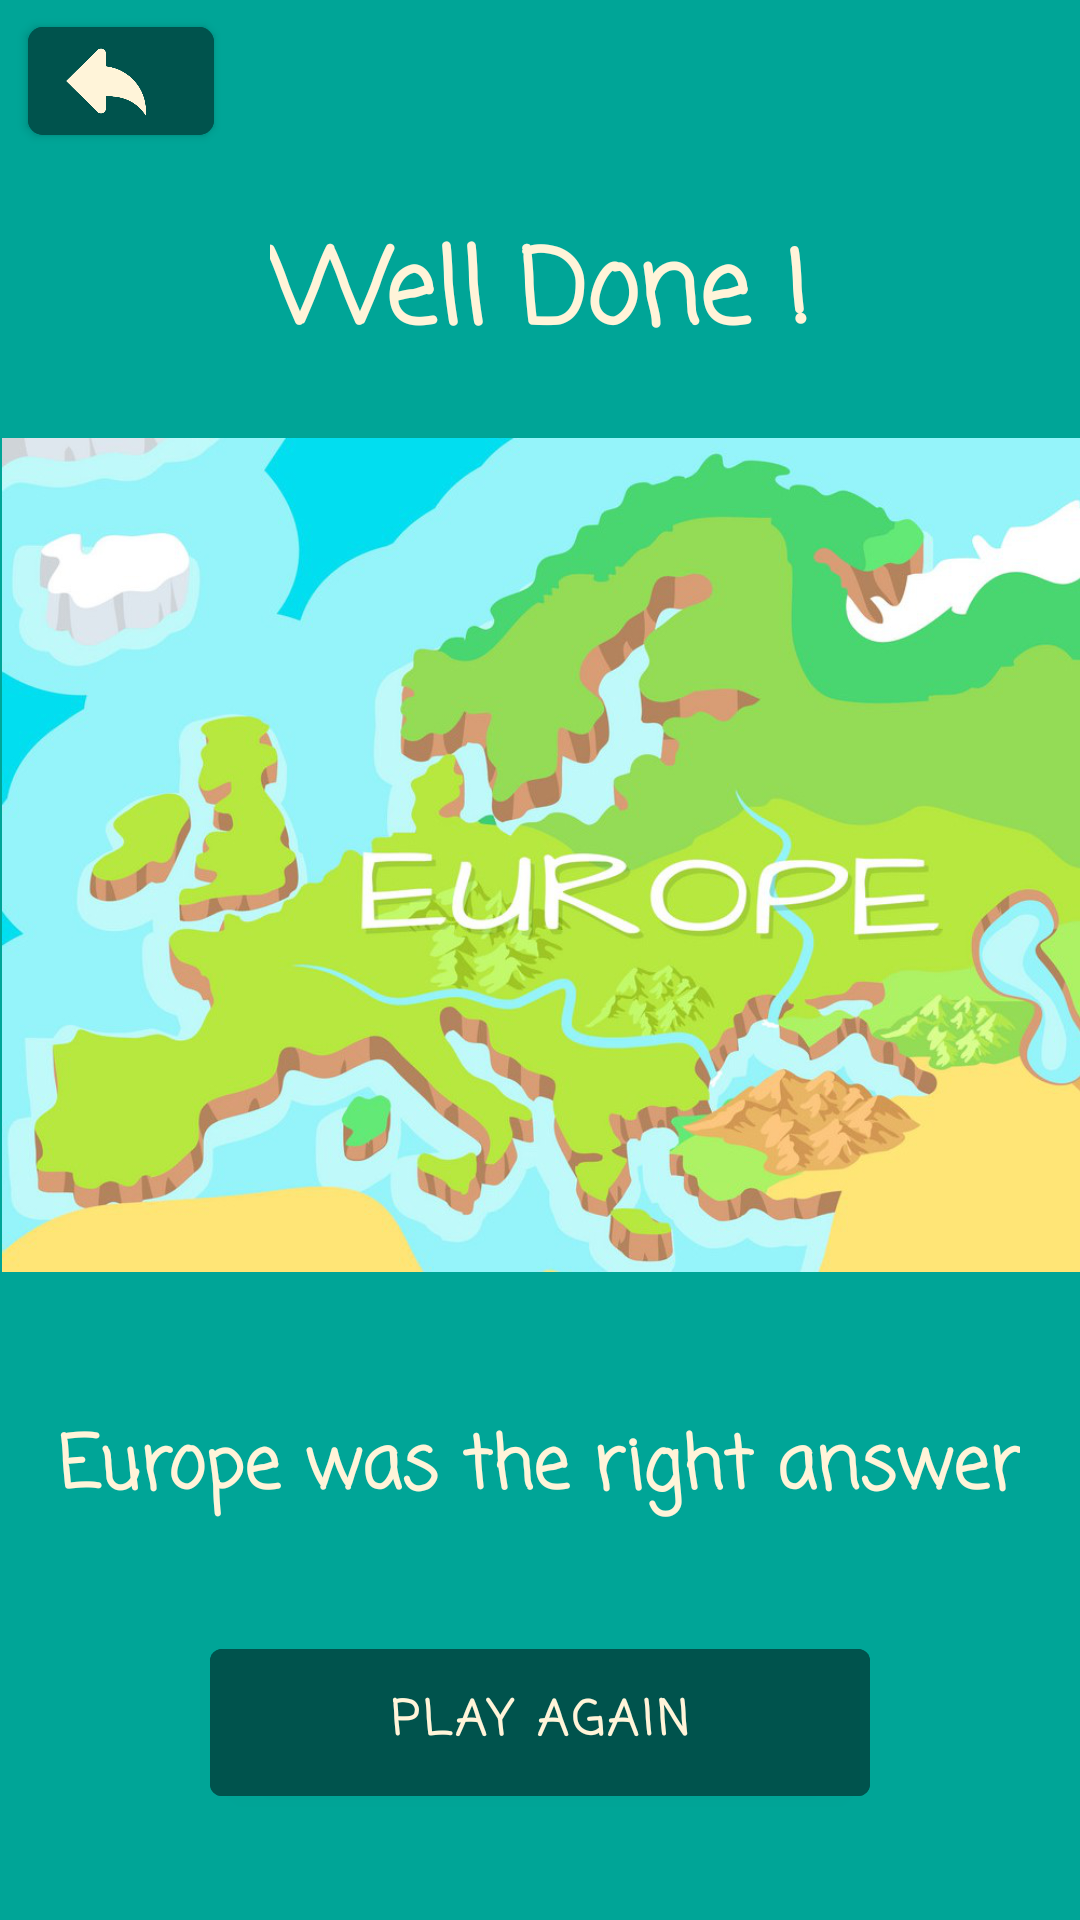

Where to tap for icons on this 1080*1920 app screen, as (x,y):
fleche: (121,81)
